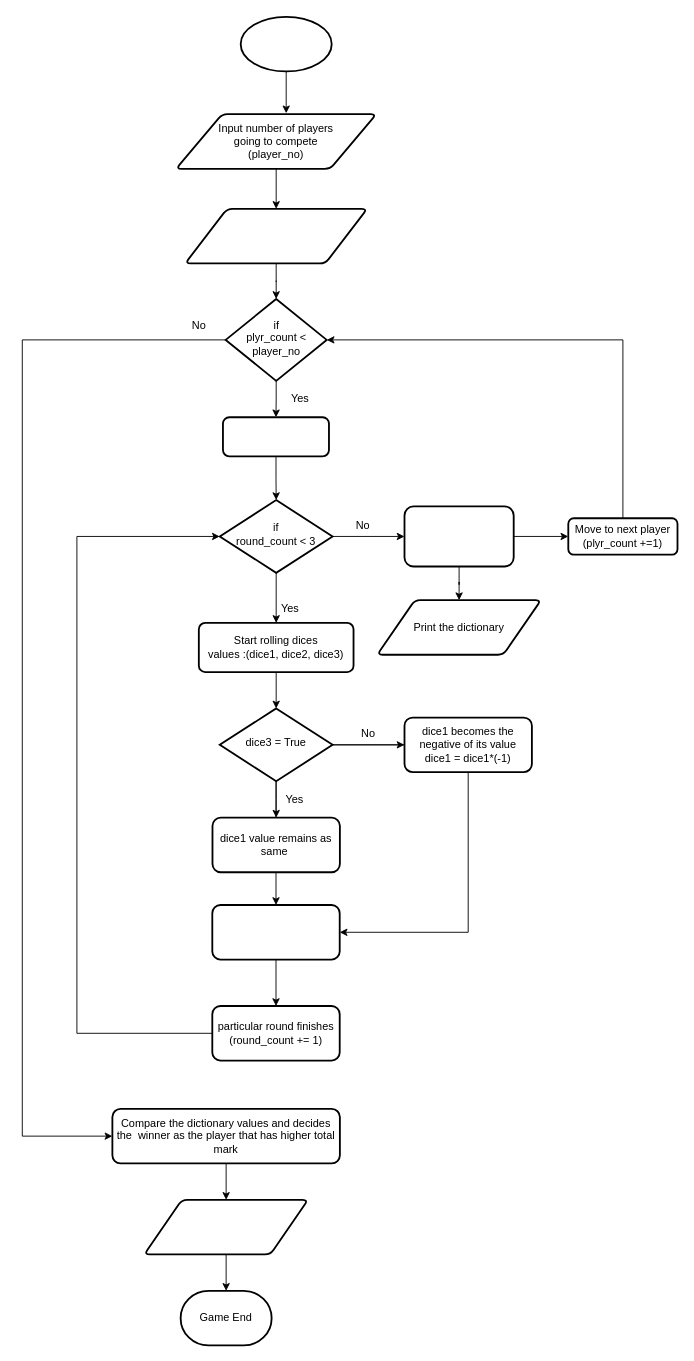
The diagram is 694 pixels wide and 1361 high, and some of its shapes have lost their labels. Here are the shapes that lost their labels. From the top down, the centre of each, then its label:
pixel 285 43: start
pixel 276 235: input player's names
pixel 275 436: round_count =0
pixel 458 536: Stores particular player's total mark in a dictionary (Total_M = {})
pixel 275 932: Total mark of the player (total += dice1)
pixel 225 1226: Print the score table for players and Winner's name
